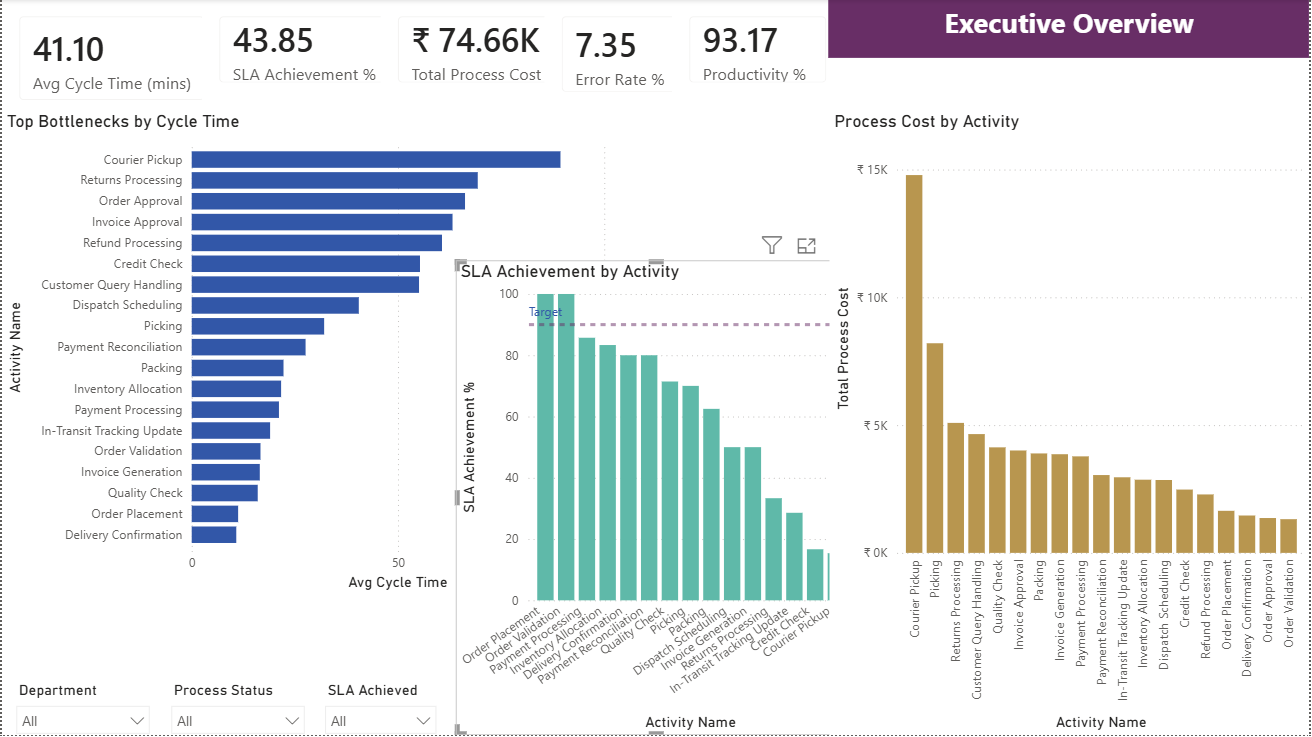

What the dashboard file says about the page in this screenshot:
{"tool":"powerbi","page":{"name":"Executive Overview","canvas":[1280,720],"ordinal":0},"visuals":[{"type":"cardVisual","fields":{"Data":["Raw_Dataset.Avg Cycle Time"]},"box":[0,0,215.2,116.9],"z":0},{"type":"cardVisual","fields":{"Data":["Raw_Dataset.SLA Achievement %"]},"box":[195.3,0,202.4,99.8],"z":1000},{"type":"cardVisual","fields":{"Data":["Raw_Dataset.Total Process Cost"]},"box":[370.6,0,195.3,99.8],"z":2000},{"type":"cardVisual","fields":{"Data":["Raw_Dataset.Error Rate %"]},"box":[530.2,0,148.2,108.3],"z":3000},{"type":"cardVisual","fields":{"Data":["Raw_Dataset.Productivity %"]},"box":[655.7,0,168.2,99.8],"z":4000},{"type":"clusteredBarChart","title":"Top Bottlenecks by Cycle Time","fields":{"Category":["Raw_Dataset.Activity Name"],"Y":["Raw_Dataset.Avg Cycle Time"]},"box":[0,108.3,604.4,474.7],"z":5000},{"type":"clusteredColumnChart","title":"SLA Achievement by Activity","fields":{"Category":["Raw_Dataset.Activity Name"],"Y":["Raw_Dataset.SLA Achievement %"]},"box":[443.3,255.1,393.4,464.7],"z":6000},{"type":"clusteredColumnChart","title":"Process Cost by Activity","fields":{"Category":["Raw_Dataset.Activity Name"],"Y":["Raw_Dataset.Total Process Cost"]},"box":[809.6,108.4,470.7,612],"z":7000},{"type":"slicer","fields":{"Values":["Raw_Dataset.Department"]},"box":[4.1,662.8,150.9,57.6],"z":8000},{"type":"slicer","fields":{"Values":["Raw_Dataset.Process Status"]},"box":[155.1,662.8,150.9,57.6],"z":9000},{"type":"slicer","fields":{"Values":["Raw_Dataset.SLA Achieved"]},"box":[306,662.8,129,57.6],"z":10000},{"type":"textbox","box":[808.5,0,471.5,57.9],"z":11000}]}

Visuals, with their boxes in screenshot pixels (x1, y1, x2, y2), scaled from the page's 1280x720 canvas onto the 1312x737 screenshot:
cardVisual - Raw_Dataset.Avg Cycle Time: pyautogui.locateOnScreen(0, 0, 221, 120)
cardVisual - Raw_Dataset.SLA Achievement %: pyautogui.locateOnScreen(200, 0, 408, 102)
cardVisual - Raw_Dataset.Total Process Cost: pyautogui.locateOnScreen(380, 0, 580, 102)
cardVisual - Raw_Dataset.Error Rate %: pyautogui.locateOnScreen(543, 0, 695, 111)
cardVisual - Raw_Dataset.Productivity %: pyautogui.locateOnScreen(672, 0, 844, 102)
"Top Bottlenecks by Cycle Time" clusteredBarChart: pyautogui.locateOnScreen(0, 111, 620, 597)
"SLA Achievement by Activity" clusteredColumnChart: pyautogui.locateOnScreen(454, 261, 858, 736)
"Process Cost by Activity" clusteredColumnChart: pyautogui.locateOnScreen(830, 111, 1311, 736)
slicer - Raw_Dataset.Department: pyautogui.locateOnScreen(4, 678, 159, 736)
slicer - Raw_Dataset.Process Status: pyautogui.locateOnScreen(159, 678, 314, 736)
slicer - Raw_Dataset.SLA Achieved: pyautogui.locateOnScreen(314, 678, 446, 736)
textbox: pyautogui.locateOnScreen(829, 0, 1311, 59)
